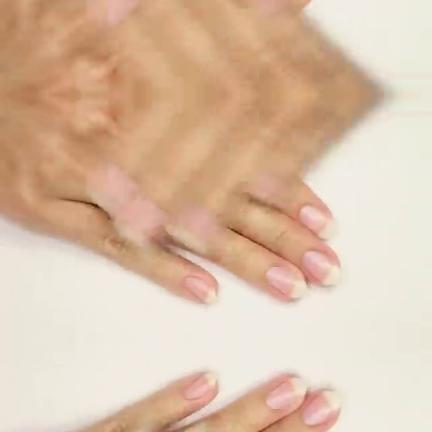Nail: (302, 249, 341, 285), (302, 389, 341, 425), (299, 204, 339, 238), (266, 266, 307, 297), (266, 377, 307, 408), (184, 275, 215, 304), (184, 370, 215, 399)
